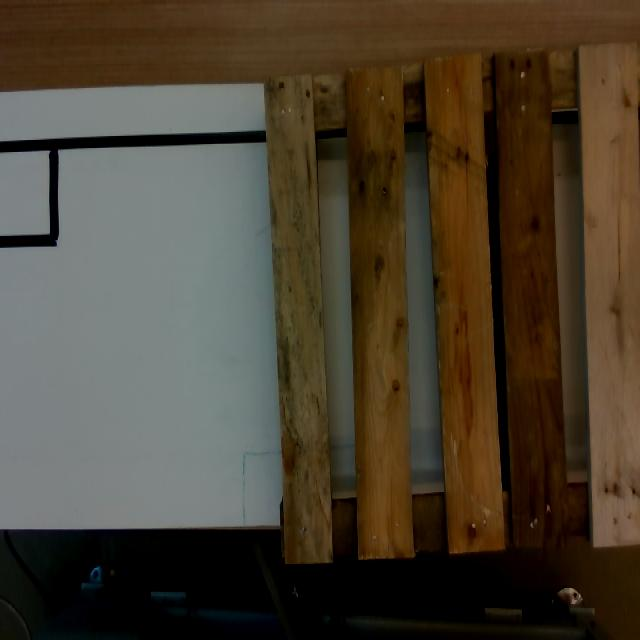pallet: (264, 39, 640, 568)
